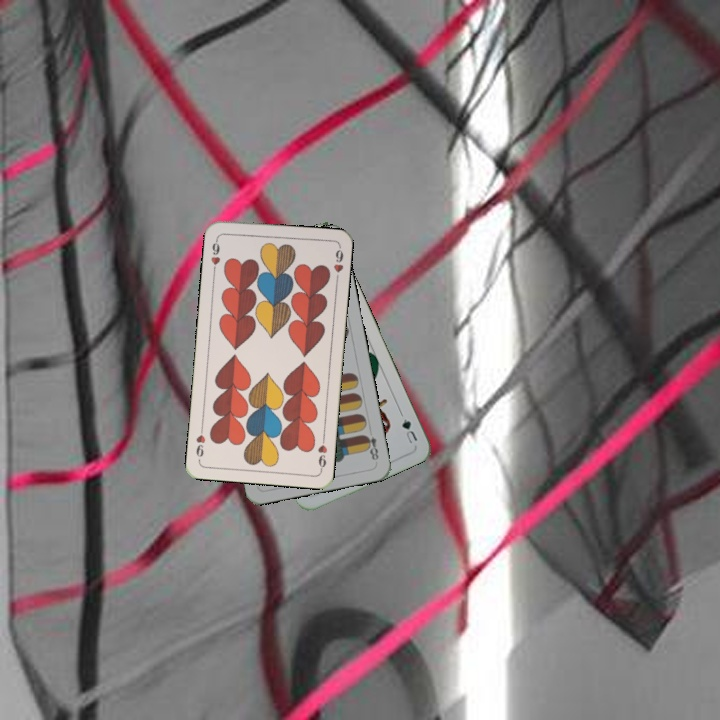E8: (360, 431, 381, 463)
GU: (396, 409, 420, 446)
H9: (314, 432, 330, 473), (207, 234, 223, 275)
